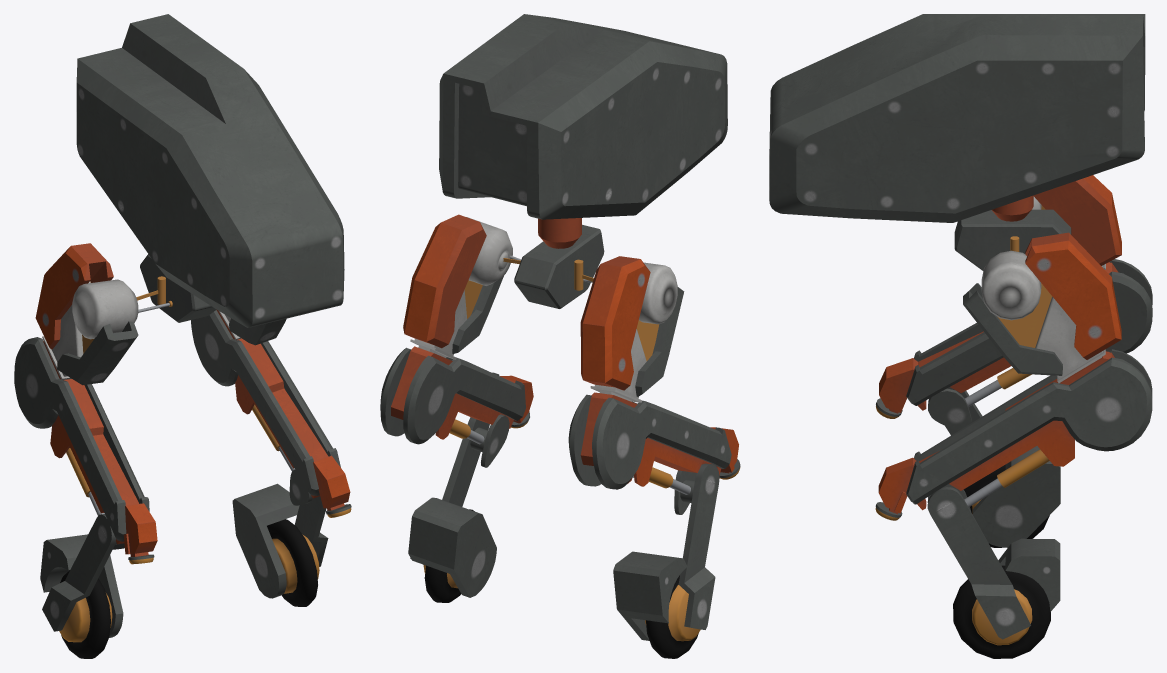
The model's file is TwoLegRobo.fbx.
3 renders of one model, left to right at view 1: azimuth 30°, elevation 25°; view 2: azimuth 150°, elevation 25°; view 3: azimuth 270°, elevation 25°, orthographic. The views are drawn at different scales.
Visible parts, largest first — view 1: TwoLegRobo; view 2: TwoLegRobo; view 3: TwoLegRobo.
Part boxes in pixels (x1=…): TwoLegRobo: x1=14, y1=14, x2=351, y2=658; TwoLegRobo: x1=380, y1=14, x2=740, y2=658; TwoLegRobo: x1=769, y1=14, x2=1152, y2=658.
Size of the model in its own units: 72.96 by 146 by 85.86.
